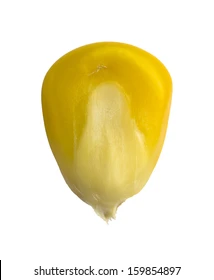corn: (40, 28, 181, 232)
